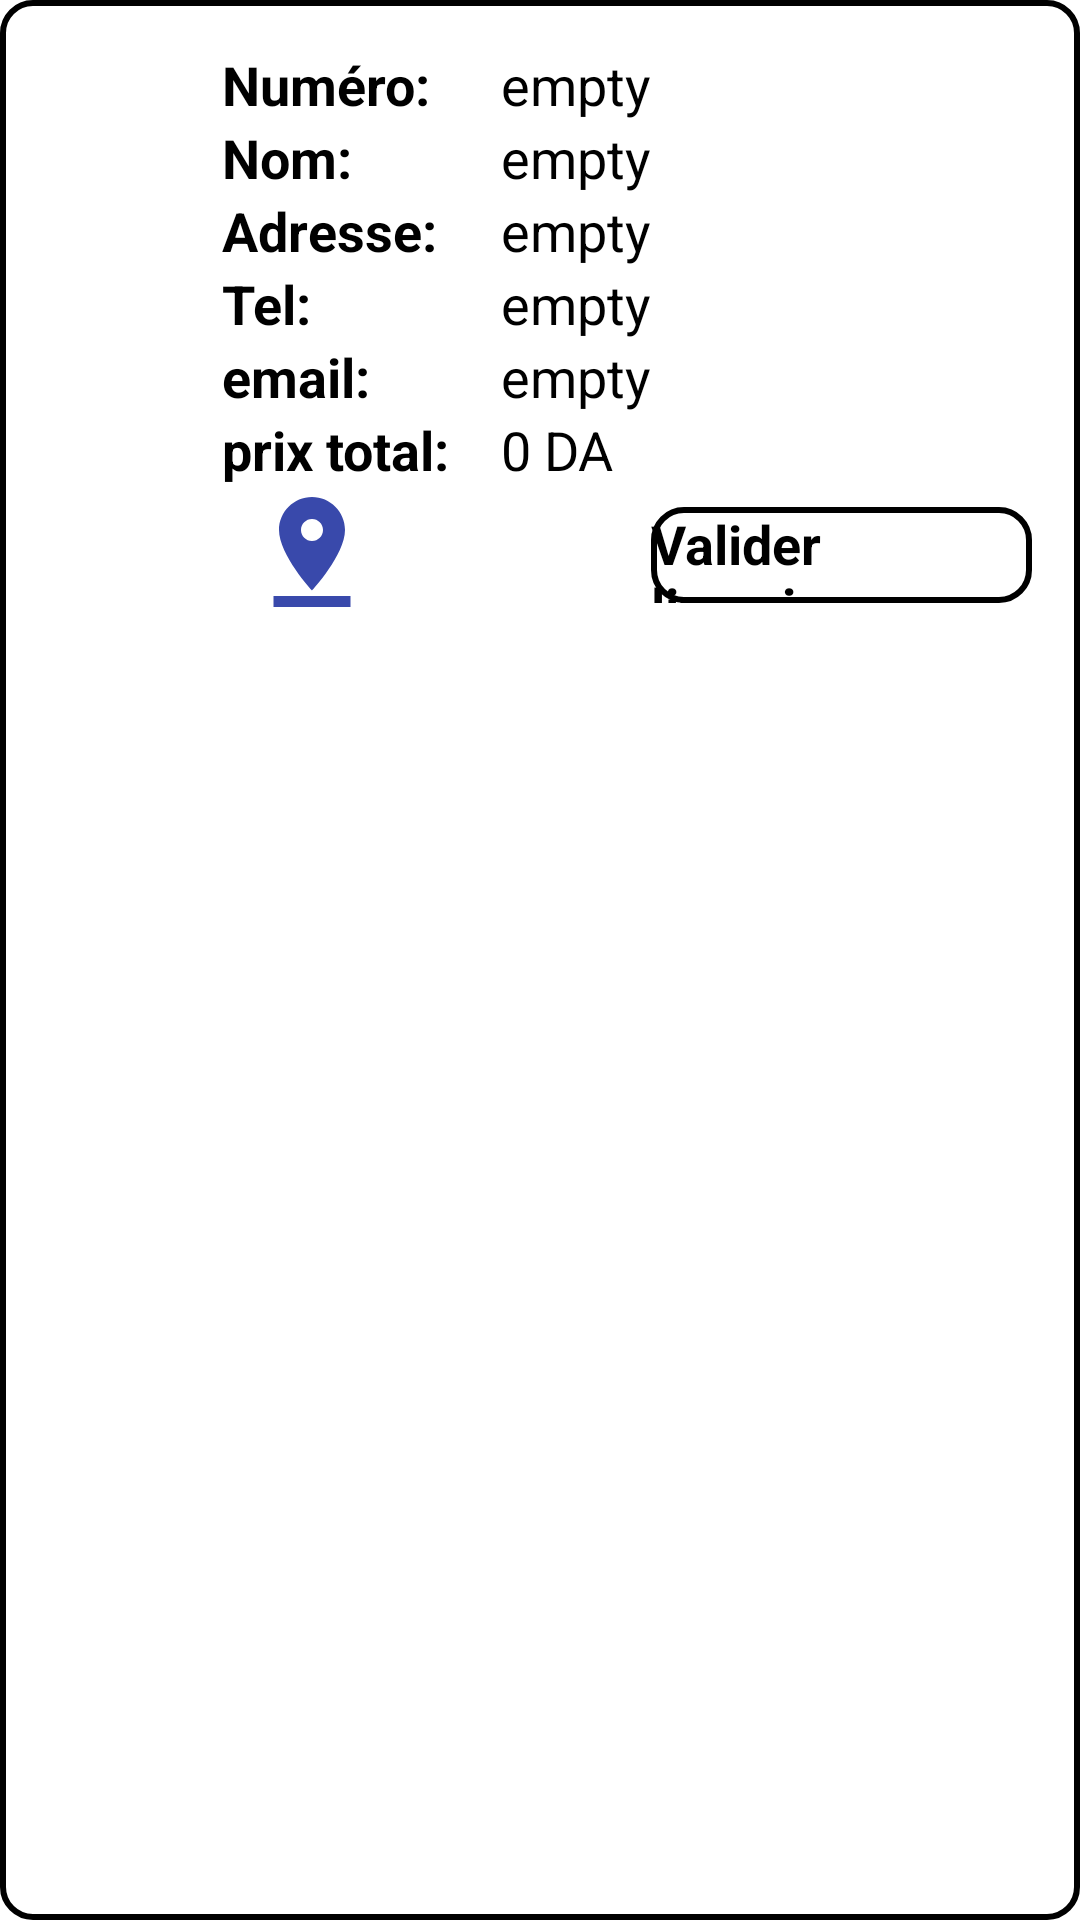

Screen size 1080 × 1920. Icon name, then its center in pixels as [x,y]:
pin drop: [312,552]
